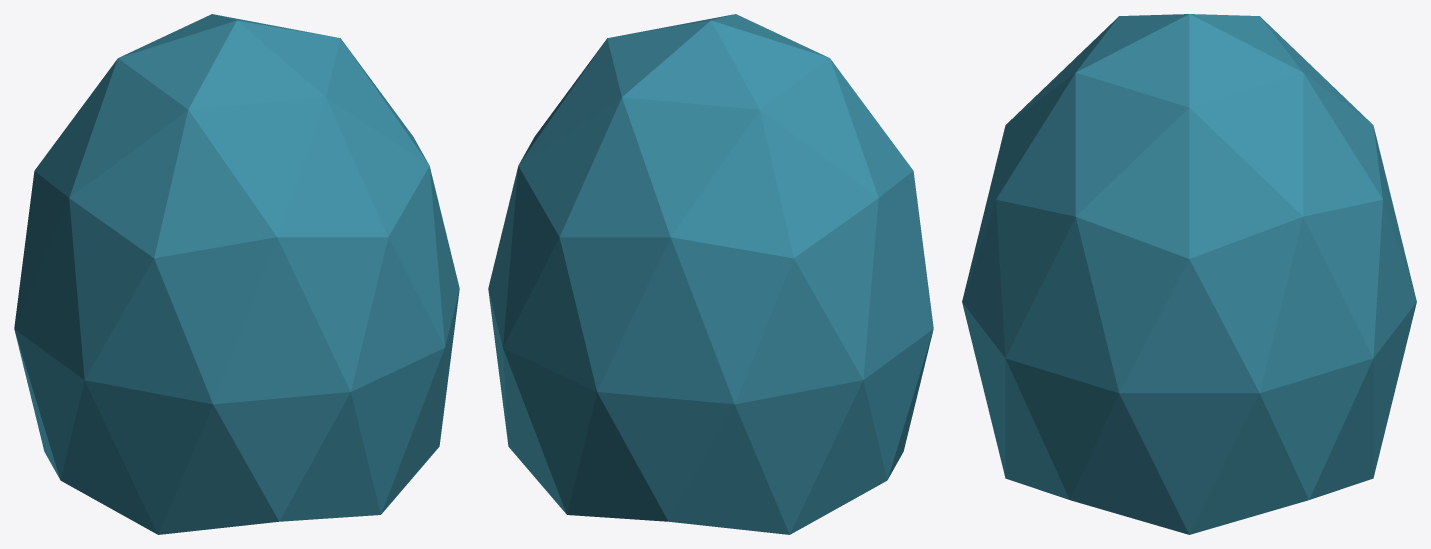
The model's file is checkpointJewel.obj.
3 renders of one model, left to right at view 1: azimuth 30°, elevation 25°; view 2: azimuth 150°, elevation 25°; view 3: azimuth 270°, elevation 25°, orthographic.
Visible parts, largest first — view 1: jewel; view 2: jewel; view 3: jewel.
Part boxes in pixels (x1,y1,x2,y2): jewel: (14,14,459,534); jewel: (488,14,933,534); jewel: (962,14,1416,534).
Size of the model in its own units: 0.5534 by 0.6199 by 0.5819.
1 material, 1 textured.
